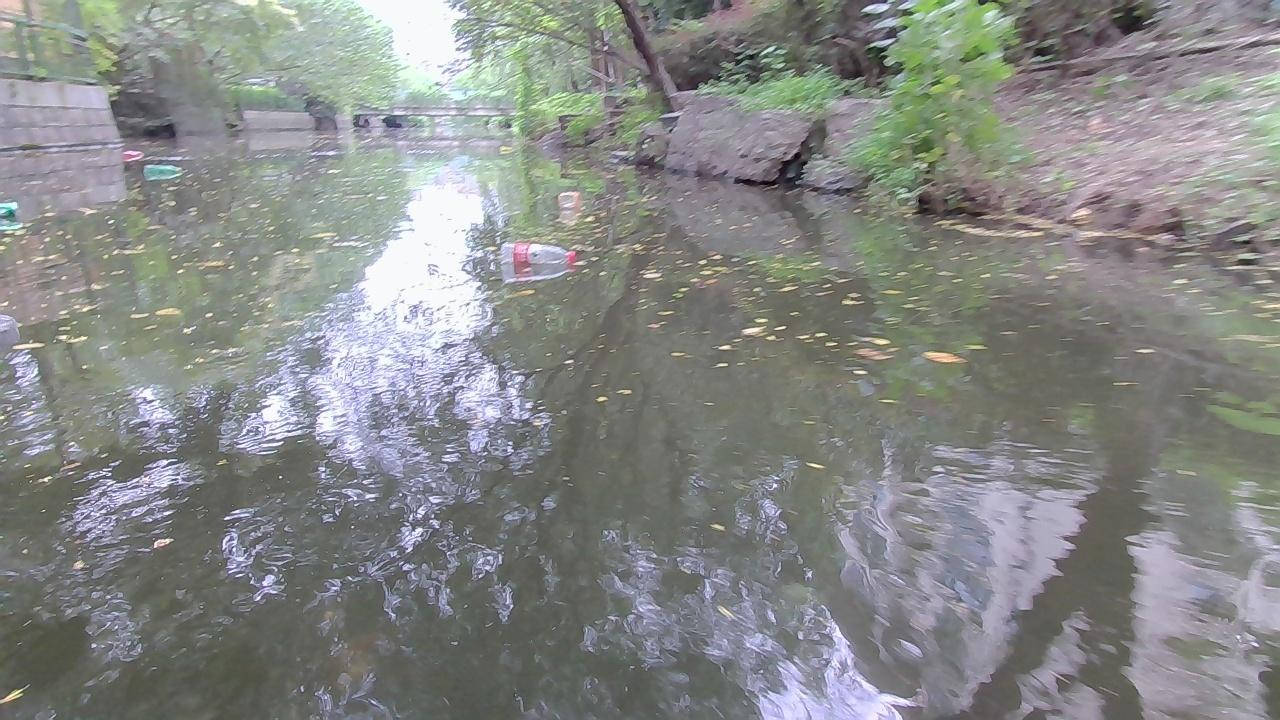bottle: (500, 242, 576, 265), (139, 162, 180, 177), (554, 190, 586, 209), (0, 197, 23, 222), (121, 148, 141, 159), (497, 143, 514, 153)
